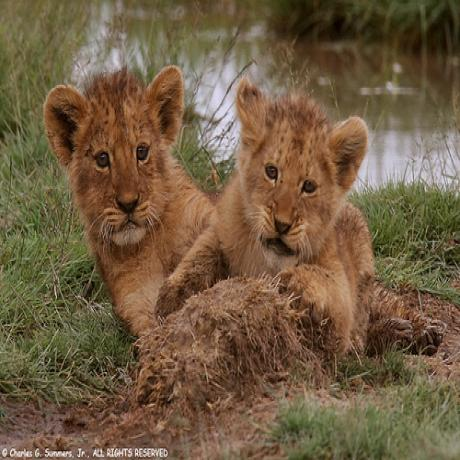Lion: (44, 61, 212, 371), (212, 78, 378, 352)
